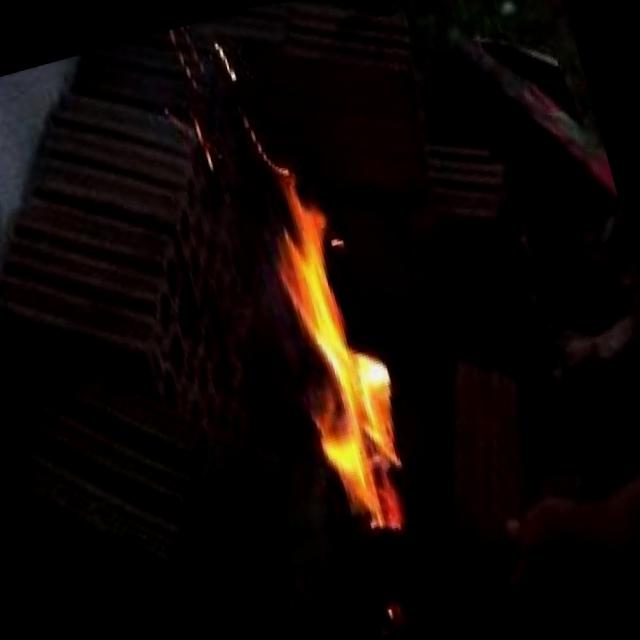fire: (193, 104, 480, 577)
